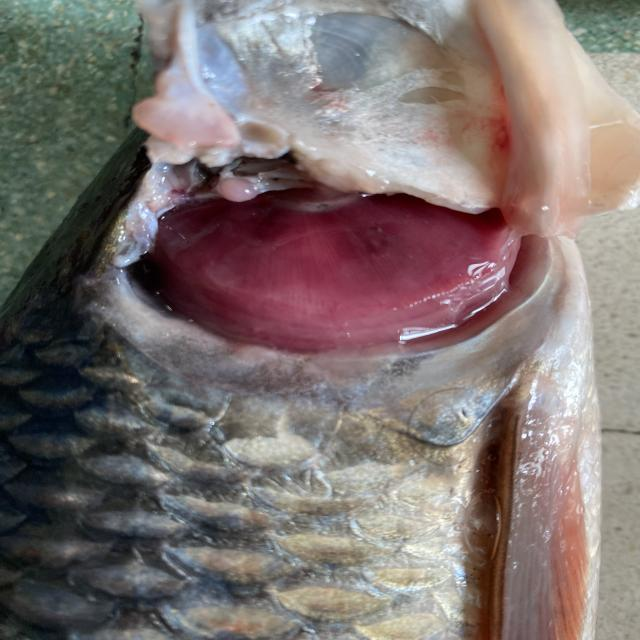Fresh: (98, 152, 556, 378)
